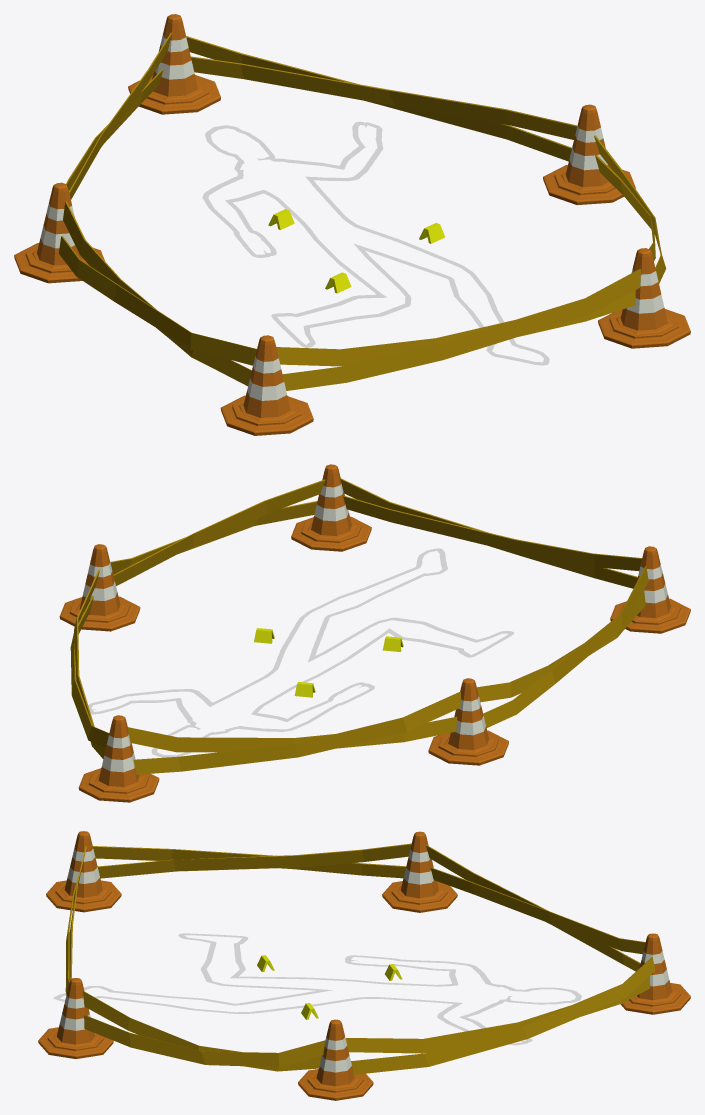
Rendered from Escena_Crimen.fbx.
The picture shows the model from 3 angles, top to bottom: view 1: azimuth 30°, elevation 25°; view 2: azimuth 150°, elevation 25°; view 3: azimuth 270°, elevation 25°; orthographic projection. The views are drawn at different scales.
Parts seen in each view (by area): view 1: Death, Cube.011, Cube.014, Cube.002, Cube, Cube.003, Cube.001, Cube.008, Cube.015, Cube.010, Cube.004, Cube.009 (+4 smaller); view 2: Death, Cube.016, Cube.010, Cube.017, Cube, Cube.003, Cube.004, Cube.001, Cube.008, Cube.013, Cube.002, Cube.011 (+4 smaller); view 3: Death, Cube.015, Cube.009, Cube.012, Cube.001, Cube.004, Cube.002, Cube, Cube.008, Cube.014, Cube.017, Cube.003 (+2 smaller).
Part boxes in pixels (x1,y1,x2,y2): Death: (202,121,549,365); Cube.011: (282,269,640,390); Cube.014: (190,56,577,139); Cube.002: (220,335,313,435); Cube: (598,248,690,348); Cube.003: (128,14,220,114); Cube.001: (543,104,635,205); Cube.008: (58,236,256,365); Cube.015: (186,36,571,161); Cube.010: (276,290,635,366); Cube.004: (14,182,105,283); Cube.009: (63,201,251,386); Death: (88,548,513,757); Cube.016: (133,691,460,774); Cube.010: (343,495,642,571); Cube.017: (127,716,457,752); Cube: (291,464,371,551); Cube.003: (78,715,159,802); Cube.004: (428,678,508,765); Cube.001: (59,544,140,631); Cube.008: (483,566,648,727); Cube.013: (113,479,325,585); Cube.002: (610,546,690,633); Cube.011: (340,478,637,588); Death: (53,933,581,1045); Cube.015: (351,957,655,1074); Cube.009: (97,843,411,878); Cube.012: (84,1015,325,1067); Cube.001: (298,1019,373,1100); Cube.004: (382,831,457,912); Cube.002: (46,831,121,912); Cube: (38,978,113,1058); Cube.008: (92,846,406,878); Cube.014: (345,976,650,1053); Cube.017: (430,867,645,954); Cube.003: (620,933,690,1014).
Size of the model in its own units: 179 by 24.52 by 233.
